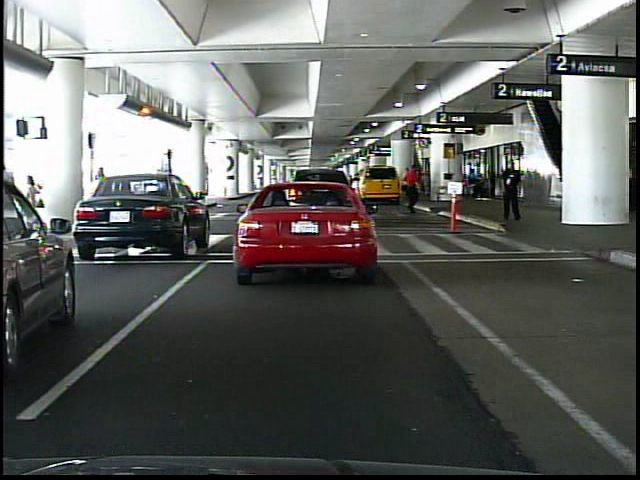person: (87, 163, 118, 242), (21, 171, 43, 240), (503, 155, 525, 224), (405, 164, 424, 217), (405, 166, 418, 202)
